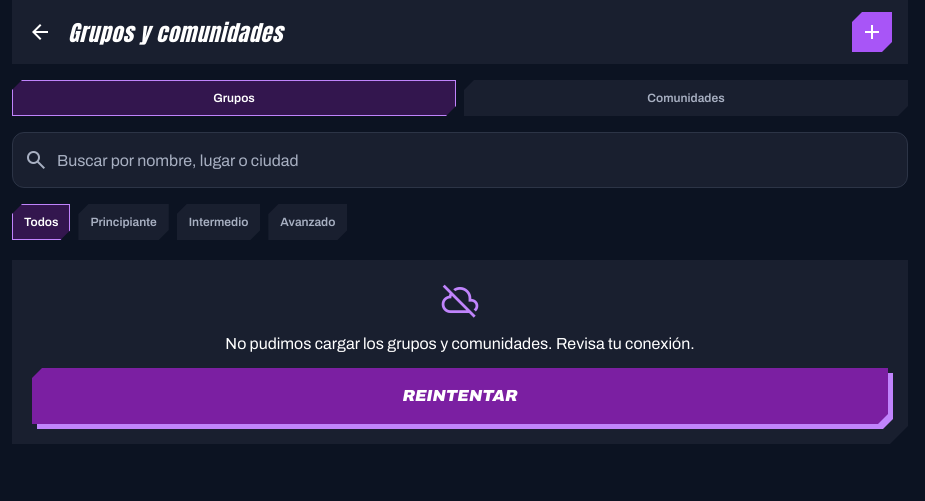
lista de clubes › error con Reintentar vuelve a cargar
The width and height of the screenshot is (925, 501).
Click the button "Reintentar" at (460, 396), box [32, 368, 888, 424]
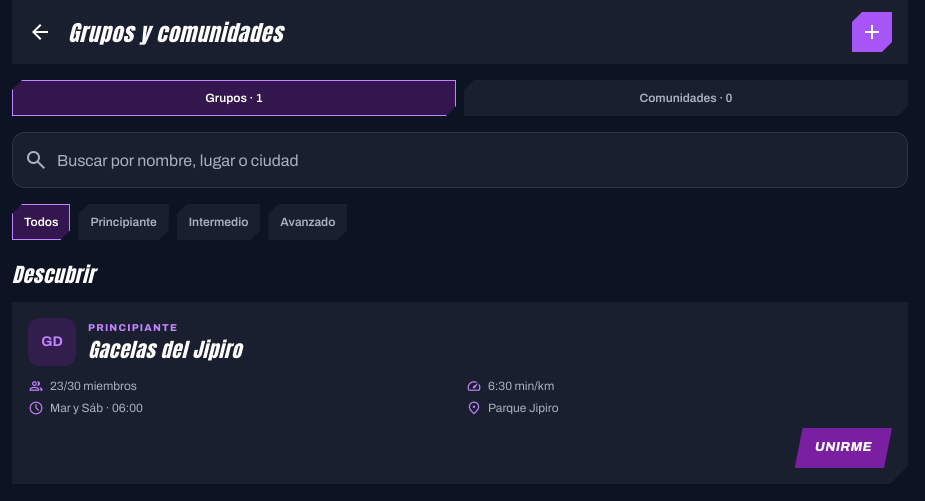
Expected: the text "Gacelas del Jipiro" is shown, [88, 334, 242, 364]
